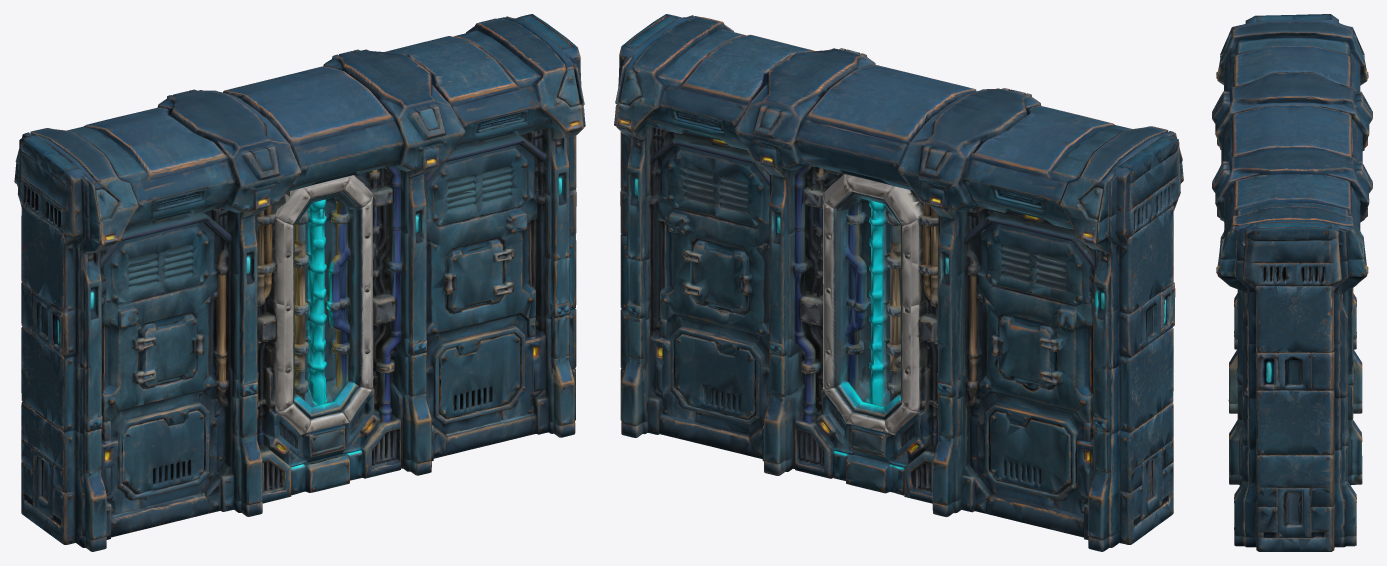
File: ContainmentFacade-Tripo.glb
3 renders of one model, left to right at view 1: azimuth 30°, elevation 25°; view 2: azimuth 150°, elevation 25°; view 3: azimuth 270°, elevation 25°, orthographic. The views are drawn at different scales.
Visible parts, largest first — view 1: tripo_node_b3334131-a4f7-4889-99ab-de177b8d0fa6; view 2: tripo_node_b3334131-a4f7-4889-99ab-de177b8d0fa6; view 3: tripo_node_b3334131-a4f7-4889-99ab-de177b8d0fa6.
Boxes of the visible parts, x1,y1,x2,y2 form: tripo_node_b3334131-a4f7-4889-99ab-de177b8d0fa6: [14, 14, 585, 551]; tripo_node_b3334131-a4f7-4889-99ab-de177b8d0fa6: [614, 14, 1183, 551]; tripo_node_b3334131-a4f7-4889-99ab-de177b8d0fa6: [1212, 14, 1372, 551].
Size of the model in its own units: 0.9802 by 0.6879 by 0.3089.
Materials: 1 (1 with a texture image).
